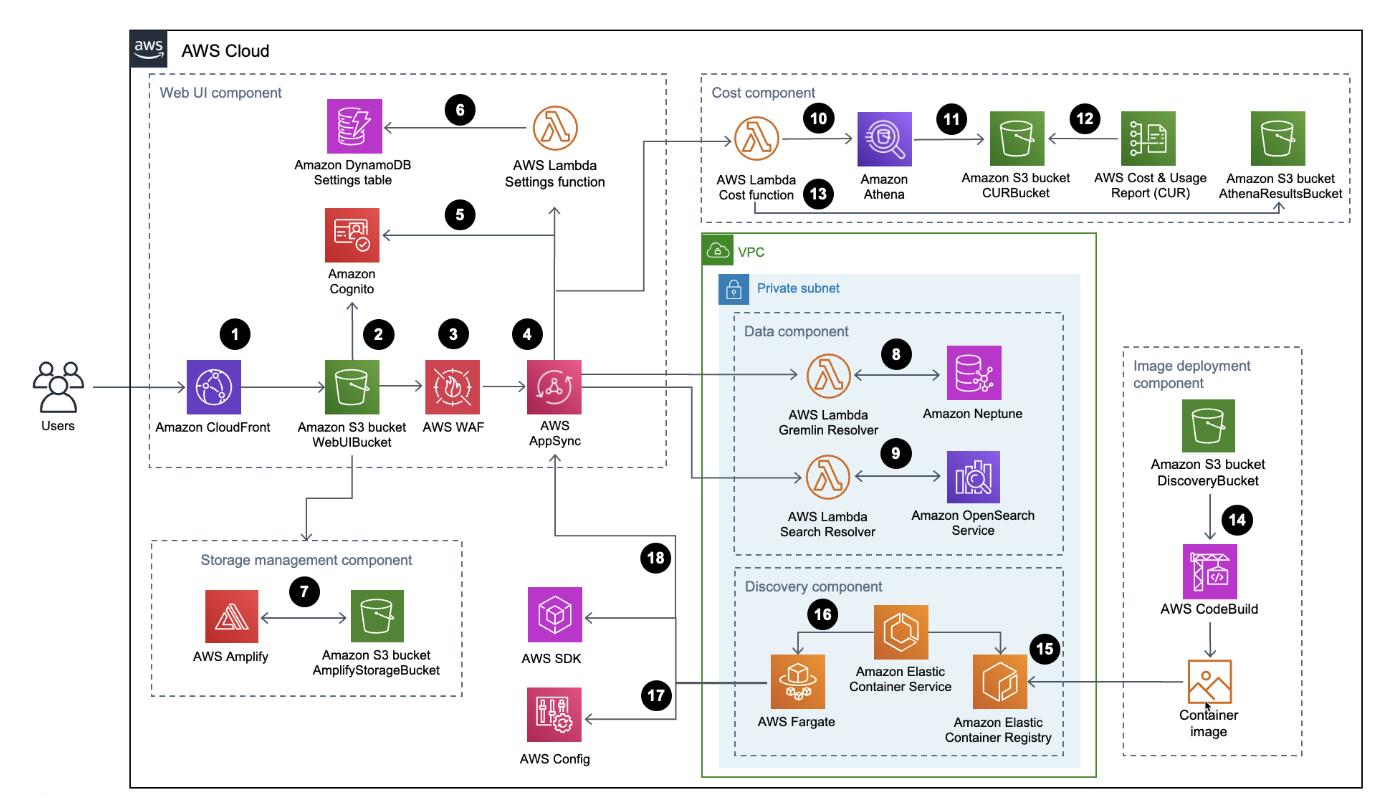Auth: (326, 211, 378, 259)
Backend: (796, 445, 858, 502), (525, 100, 588, 155), (729, 109, 785, 161), (804, 349, 855, 401), (973, 659, 1025, 709), (879, 610, 926, 658), (775, 659, 818, 710)
Configuration: (1126, 116, 1174, 164), (532, 690, 578, 738)
Database: (860, 113, 912, 168), (951, 347, 1005, 395), (330, 101, 378, 151)
Firewall: (421, 357, 481, 416)
Frontend: (191, 362, 245, 415), (215, 598, 249, 640)
Search: (953, 452, 996, 502)
Storage: (1184, 656, 1234, 707), (1255, 114, 1301, 169), (1184, 404, 1234, 454), (994, 115, 1041, 162), (331, 364, 374, 411), (354, 592, 396, 640)
Workflow Engine: (529, 589, 582, 642), (524, 363, 579, 413), (1189, 548, 1235, 596)
